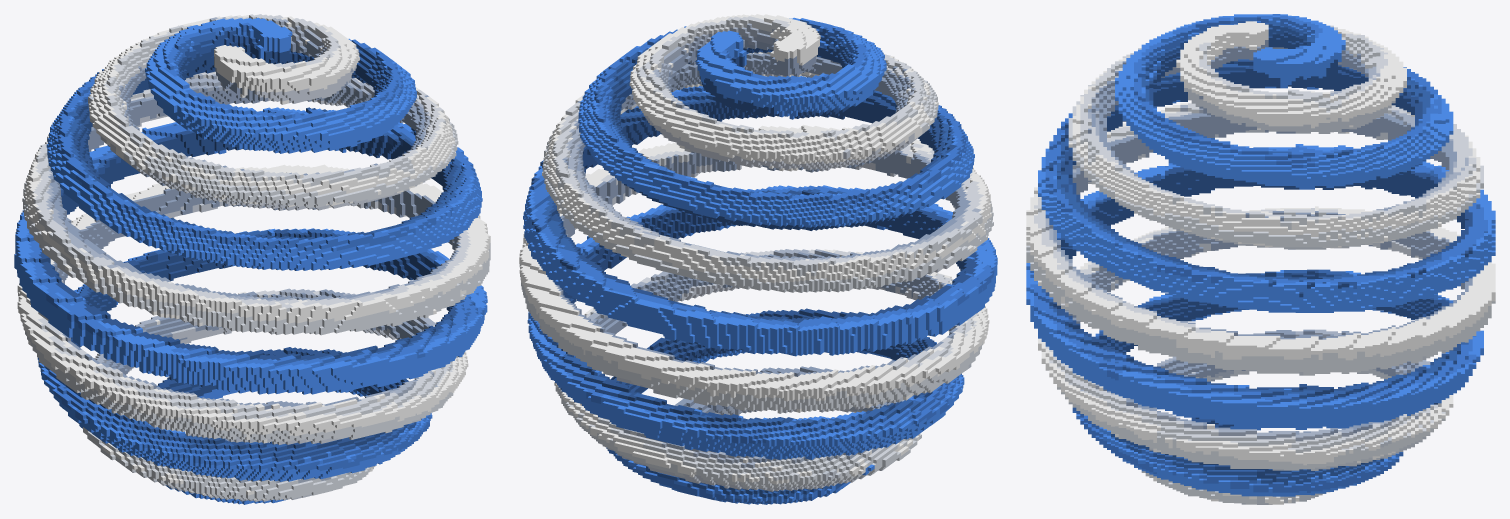
The model's file is ball.FBX.
3 renders of one model, left to right at view 1: azimuth 30°, elevation 25°; view 2: azimuth 150°, elevation 25°; view 3: azimuth 270°, elevation 25°, orthographic.
Parts seen in each view (by area): view 1: default012; view 2: default012; view 3: default012.
Part boxes in pixels (x1,y1,x2,y2): default012: (14,14,490,504); default012: (519,14,997,504); default012: (1026,14,1495,504).
Bounding box in the file's own units: 634 × 644 × 629.
